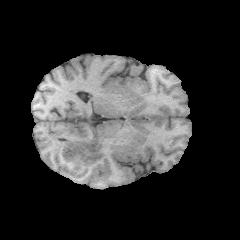glioma: (51, 136, 124, 177)
